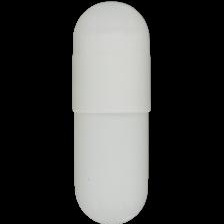0591-0369: (0, 0, 224, 224)
